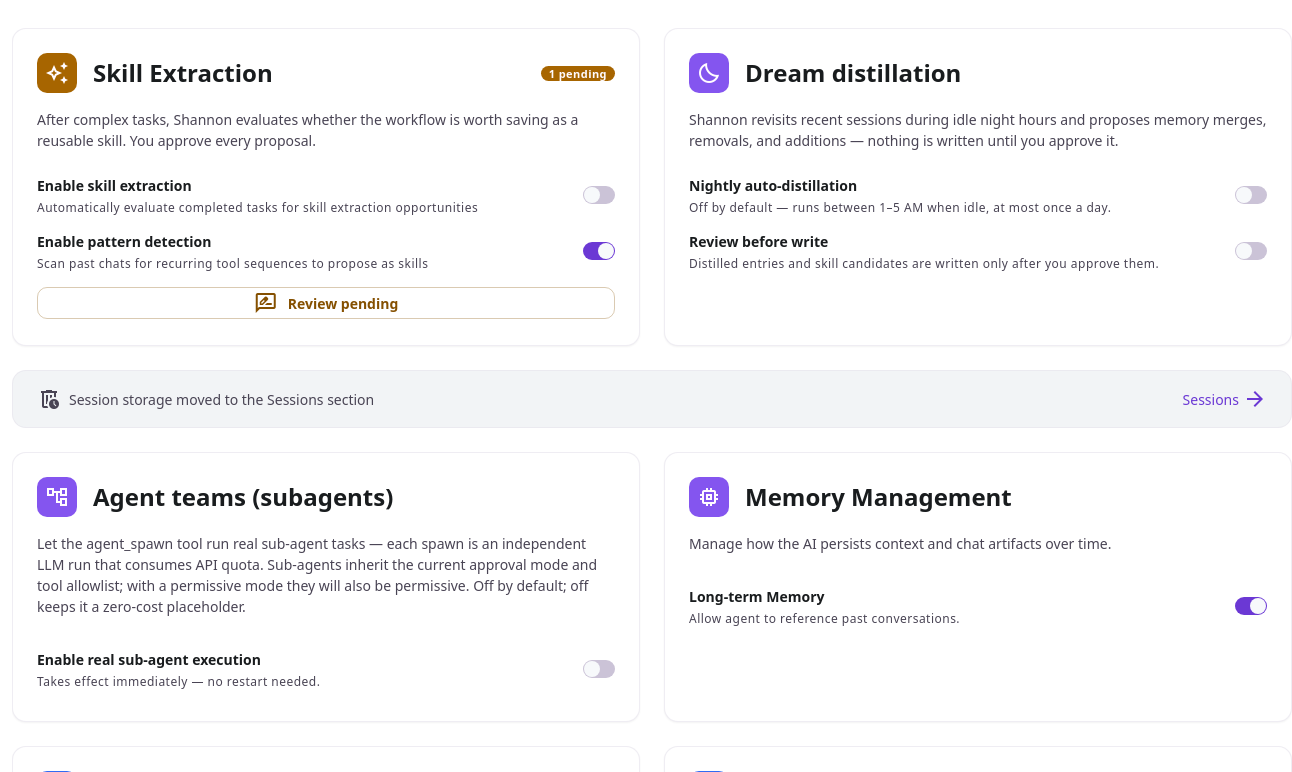
AdvancedSettings — Self-improvement approval › navigates to /extensions/pending on Review click (no modal)
The width and height of the screenshot is (1292, 772).
Click the button "Review pending" at (326, 303), box [37, 287, 615, 319]
(page scrolled)
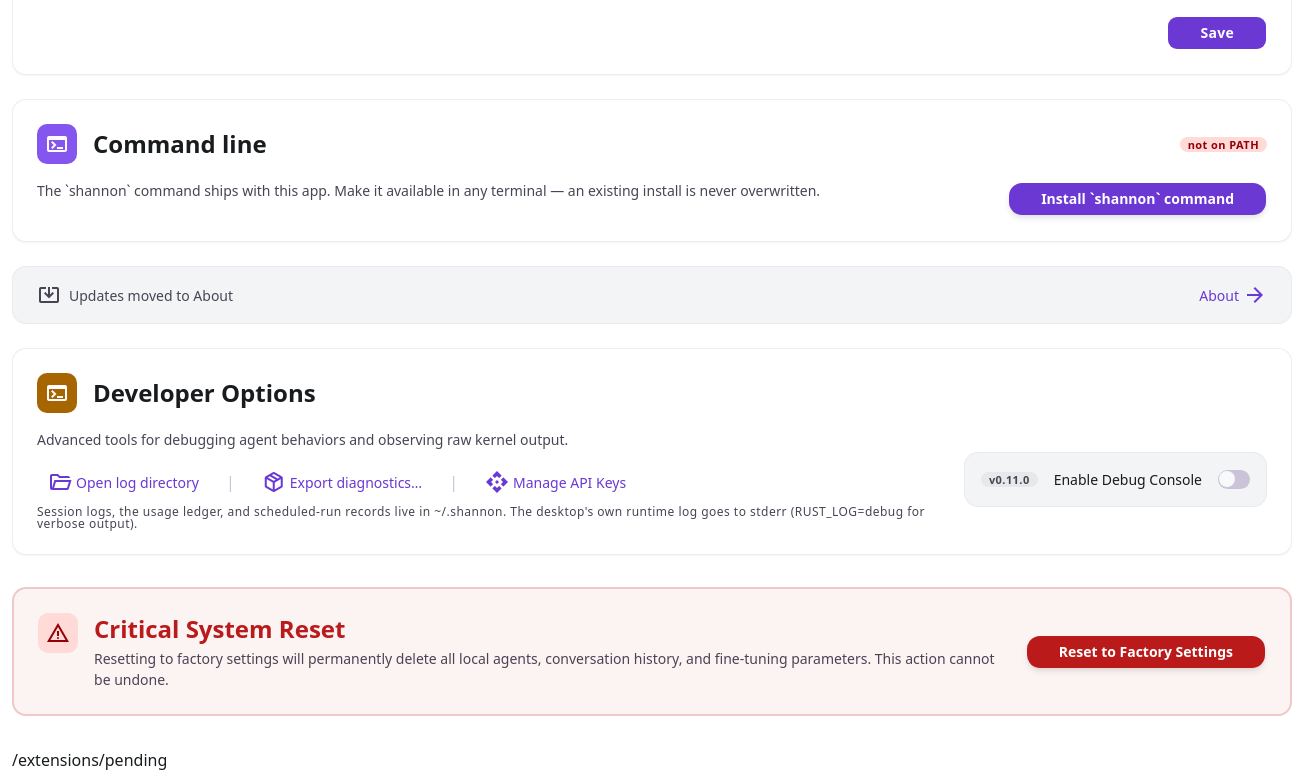
Check: the text with test id "adv-location" reads "/extensions/pending", box [12, 749, 167, 771]
